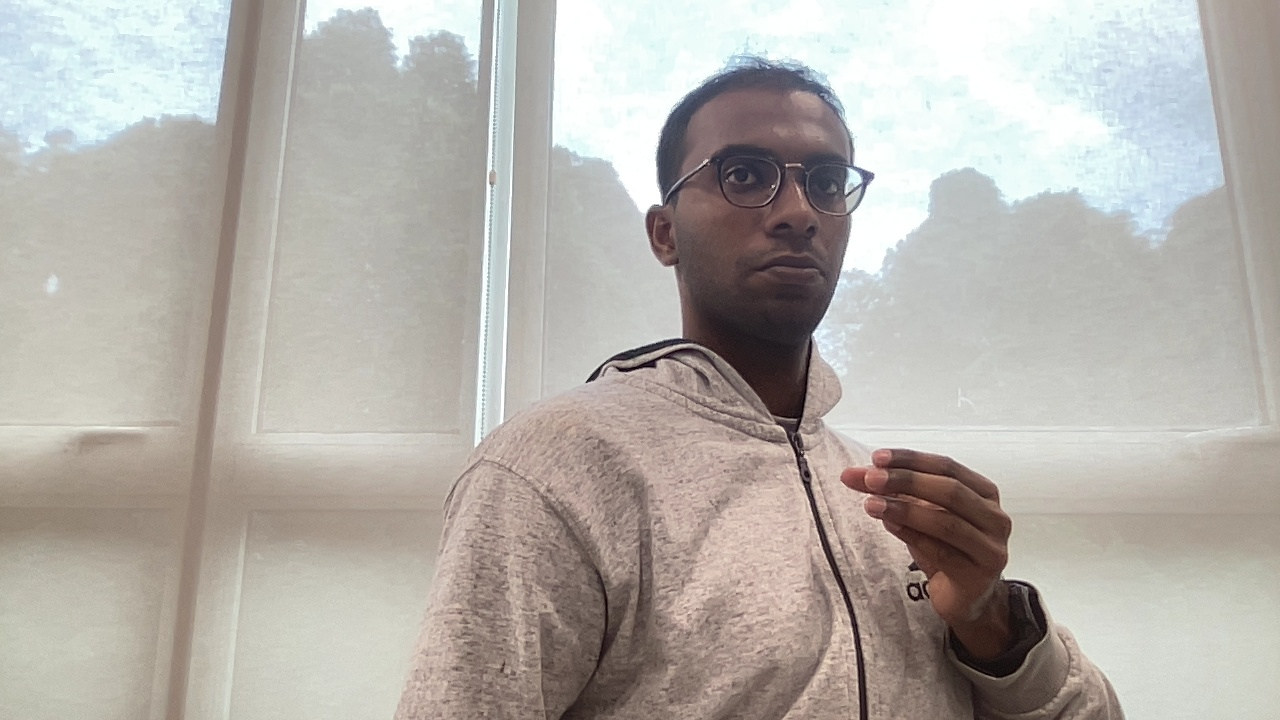drink: (832, 440, 1023, 618)
